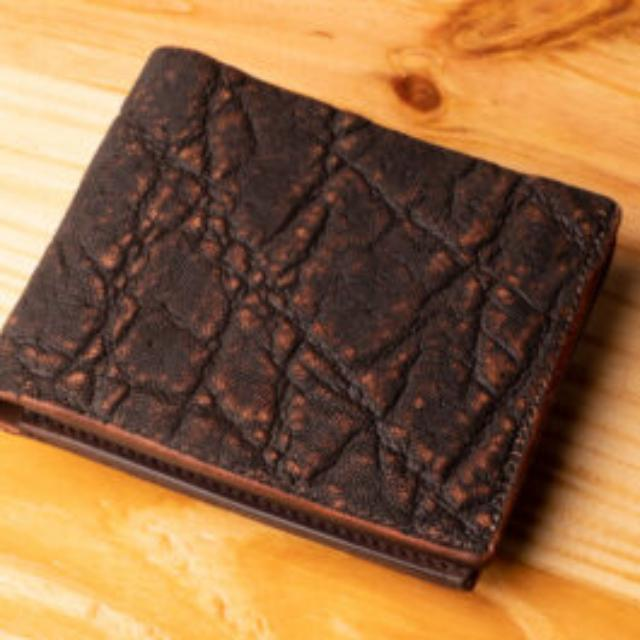wallet: (53, 14, 631, 614)
